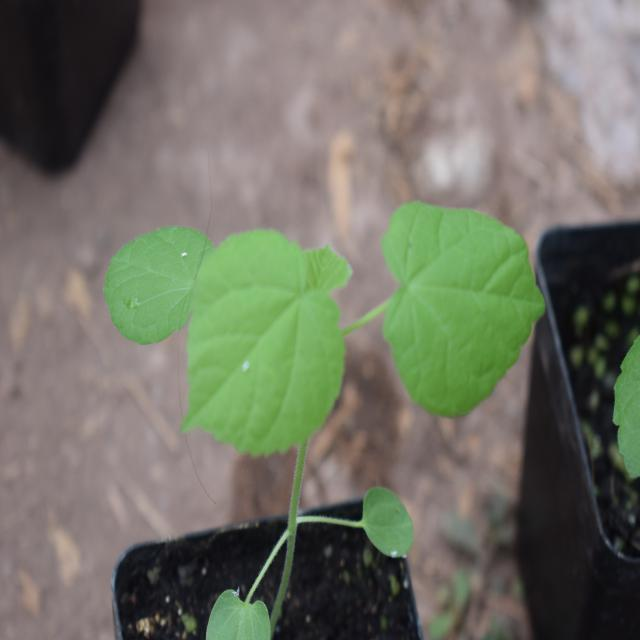abutilon theophrasti: (102, 130, 532, 524)
